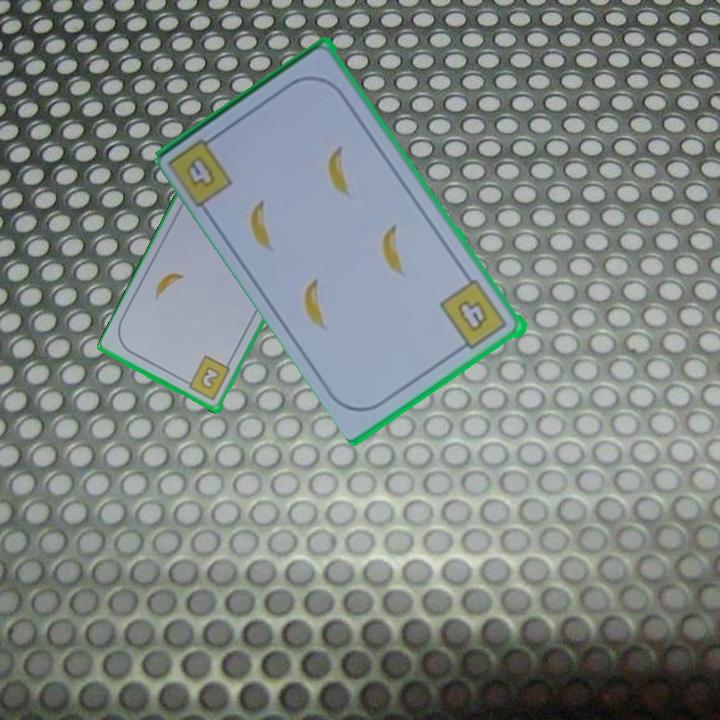2b: (180, 353, 233, 404)
4b: (436, 276, 511, 355), (166, 128, 237, 210)
